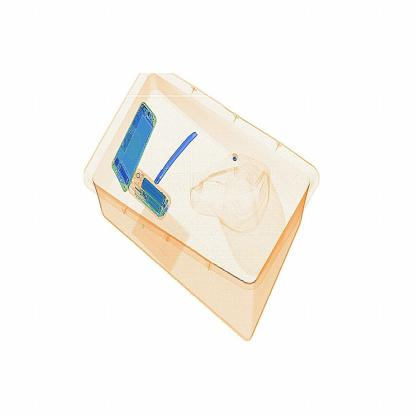pliers: (153, 112, 204, 190)
